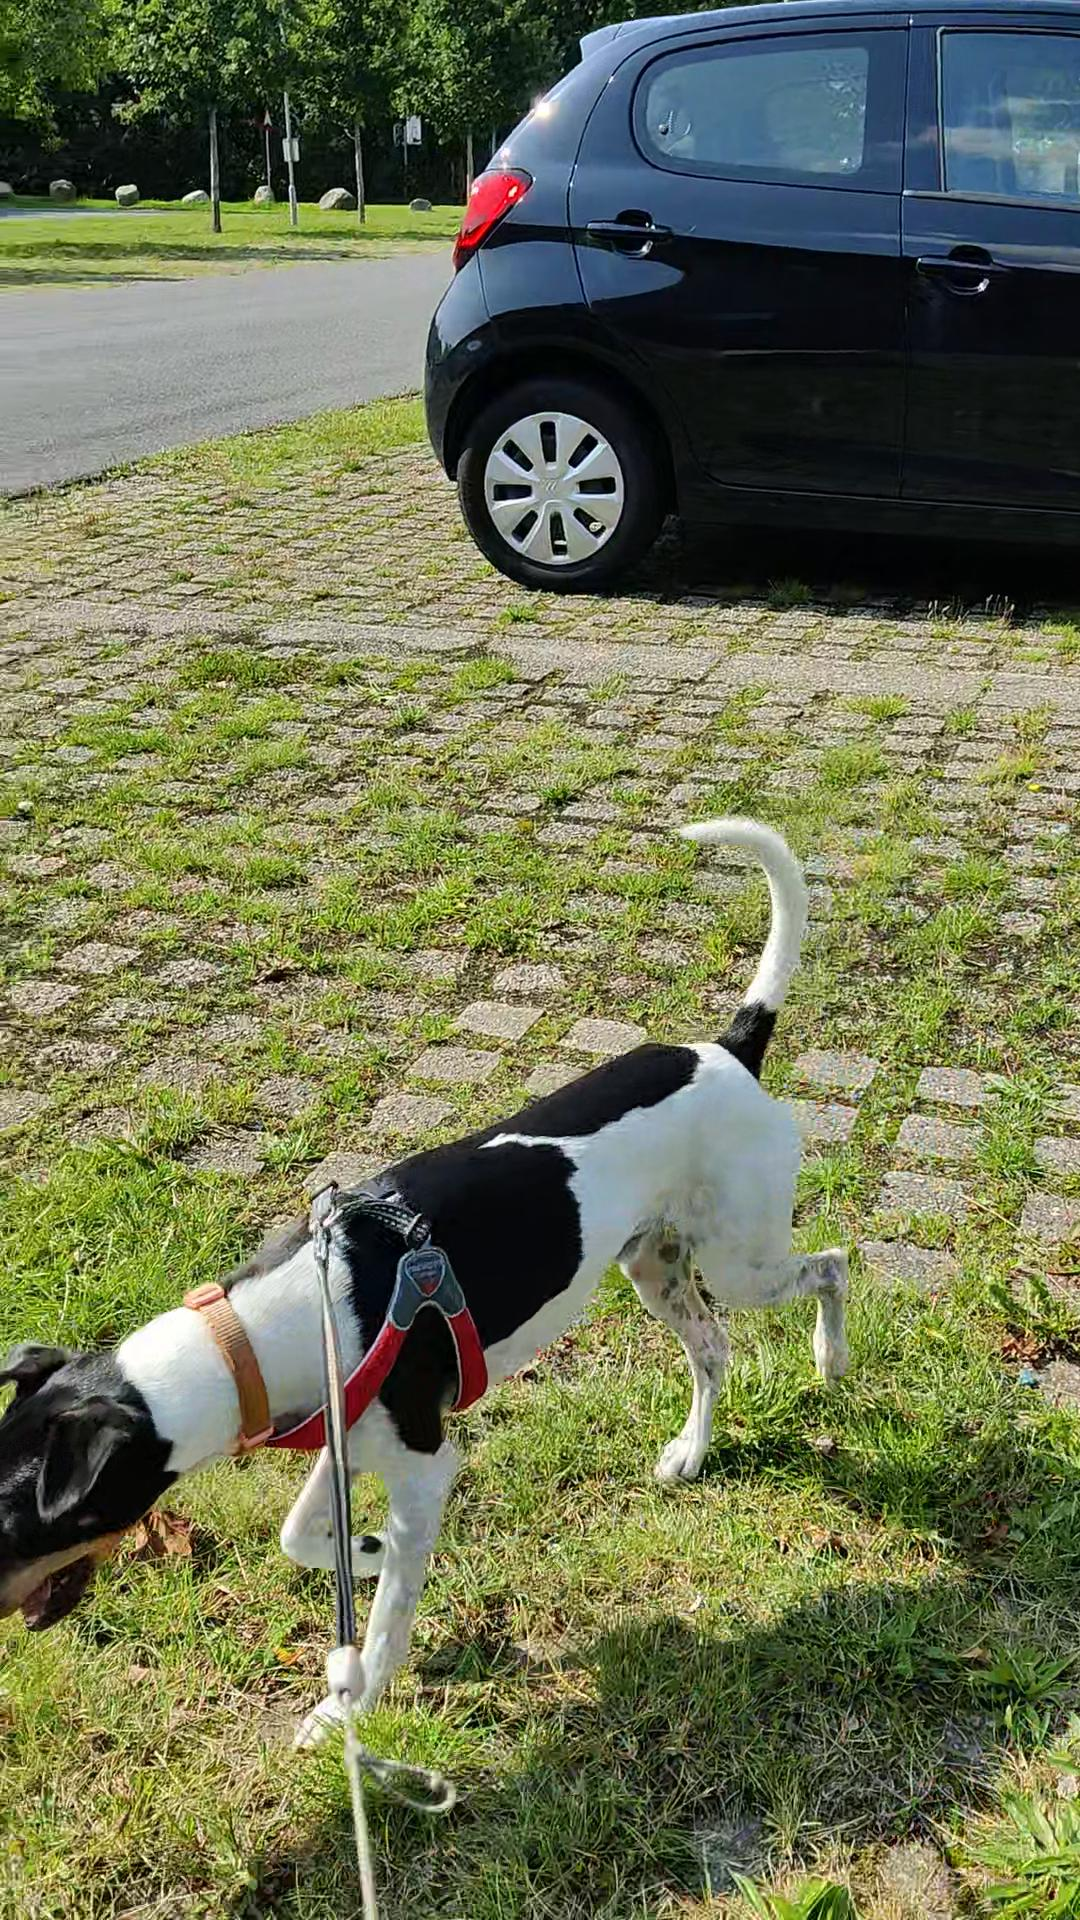Dog: (0, 773, 861, 1834)
